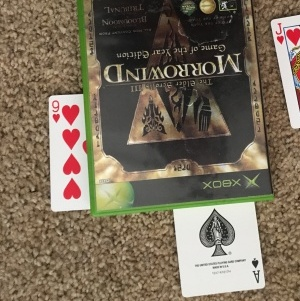card: (171, 201, 265, 296), (48, 91, 92, 210)
